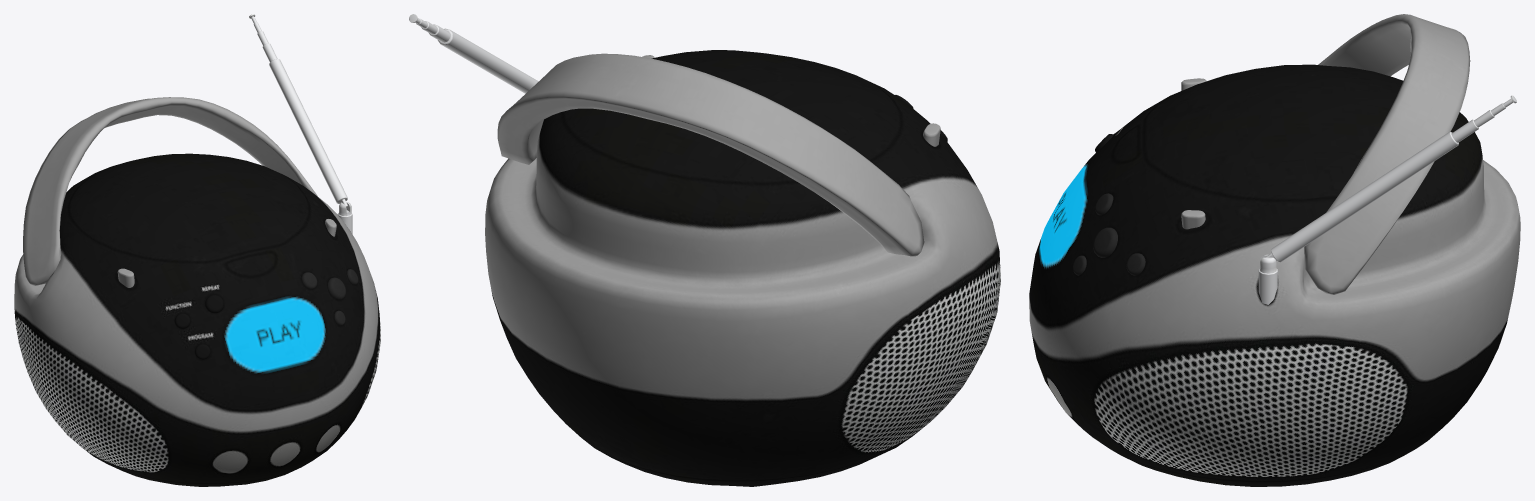
The model's file is BoomBox.gltf.
3 views of the same model, side by side, from view 1: azimuth 30°, elevation 25°; view 2: azimuth 150°, elevation 25°; view 3: azimuth 270°, elevation 25° (orthographic). The views are drawn at different scales.
Visible parts, largest first — view 1: BoomBox; view 2: BoomBox; view 3: BoomBox.
Part boxes in pixels (left/top/right/bottom): BoomBox: left=14, top=14, right=380, bottom=486; BoomBox: left=409, top=14, right=1000, bottom=486; BoomBox: left=1029, top=14, right=1520, bottom=486.
Size of the model in its own units: 0.0198 by 0.0195 by 0.0202.
1 material, 1 textured.
